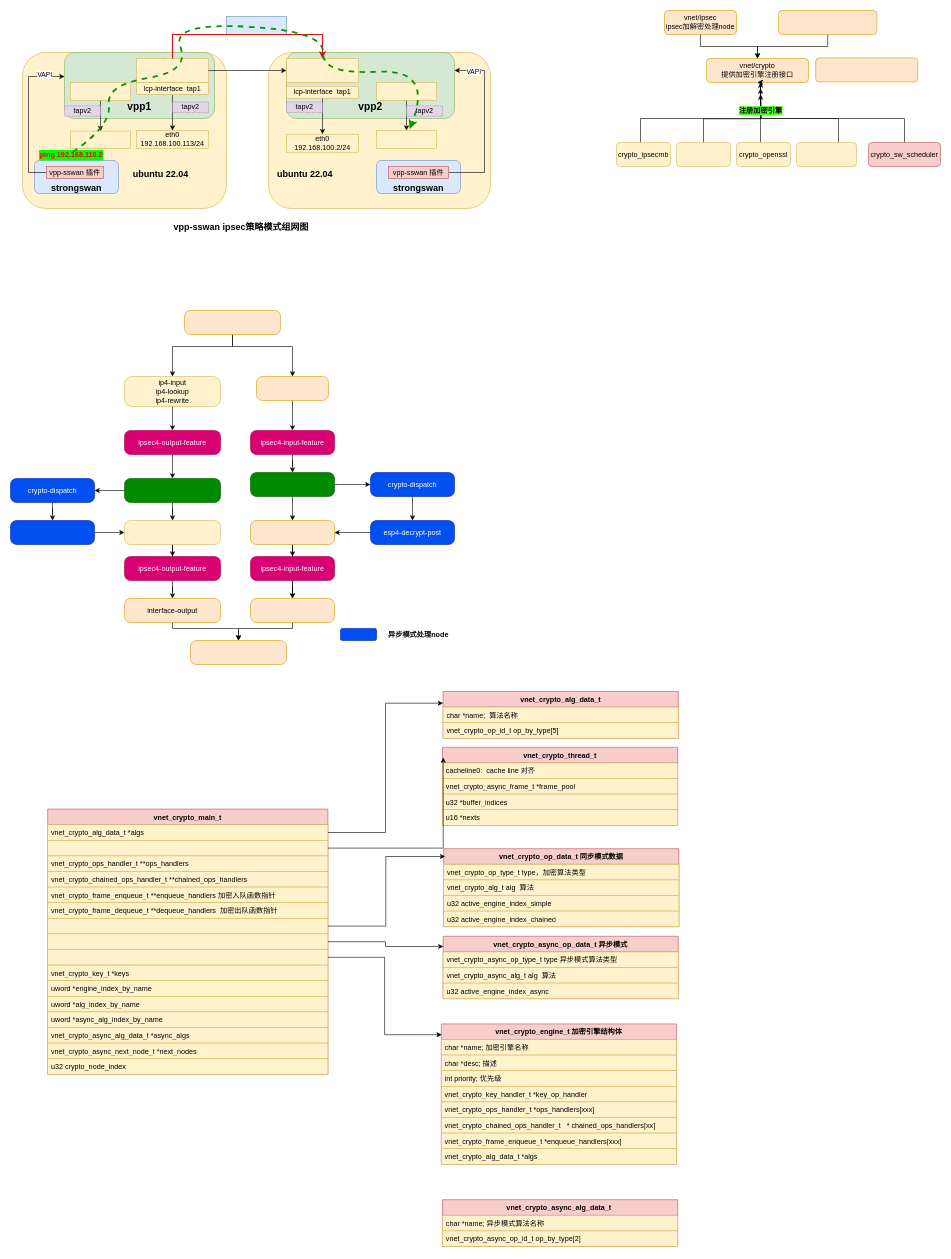
Some shapes in this 951 by 1259 pixel diagram are drawn without their labels. Each missing label, with the centre of its shape:
"crypto-dispatch 异步调用node" belongs at point 866,69.
"crypto_native" belongs at point 703,154.
"dpdk/cryptodev" belongs at point 826,154.
"esp4-decrypt" belongs at point 292,484.
"esp4-encrypt" belongs at point 172,490.
"esp4-encrypt-post" belongs at point 52,532.
"ethernet-input" belongs at point 232,322.
"GigabitEthernet0/6/0 192.168.100.113/24" belongs at point 172,70.
"GigabitEthernet0/6/0 192.168.100.2/24" belongs at point 322,70.
"inerfaceXX-output inerfaceXX-tx" belongs at point 238,652.
"ip4-input" belongs at point 292,388.
"ip4-input-no-checksum" belongs at point 292,532.
"ip4-load-balance ip4-rewrite" belongs at point 172,532.
"ip4-lookup ip4-rewrite" belongs at point 292,610.
"ipsec-tunnel" belongs at point 256,25.
"tap100 192.168.110.1/24" belongs at point 406,91.
"tap100 192.168.110.2/24" belongs at point 406,139.
"tap100 192.168.200.1/24" belongs at point 100,91.
"tap100 192.168.200.2/24" belongs at point 100,139.
"vnet_crypto_async_op_data_t async_opt_data[..]" belongs at point 187,941.
"vnet_crypto_engine_t *engines" belongs at point 187,957.
"vnet_crypto_op_data_t opt_data[...]" belongs at point 187,926.
"vnet_crypto_thread_t *threads" belongs at point 187,848.
"wireguard wireguard插件加解密node" belongs at point 827,22.
